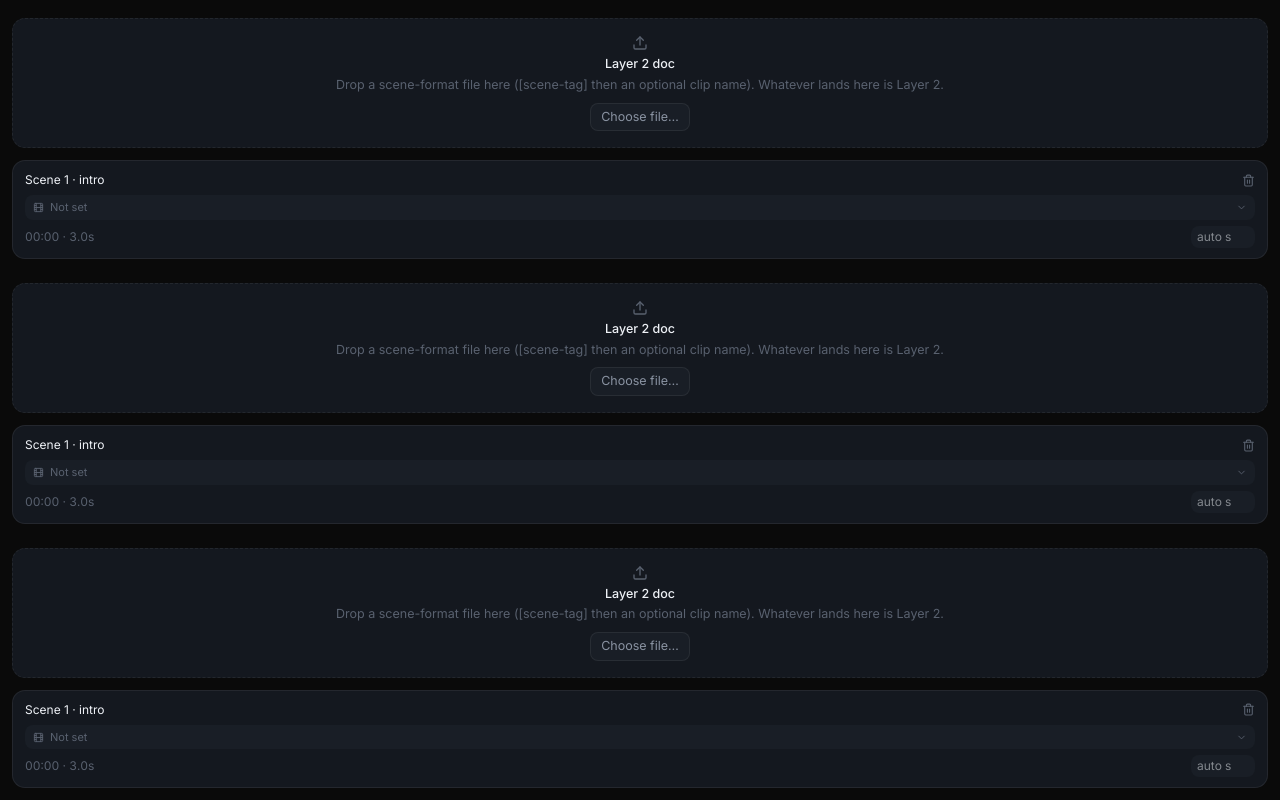
Test: delete confirmation + row select + geometry reset › bin -> confirmation dialog; confirm deletes, cancel does not
(page scrolled)
Click the 3rd button named "Delete spot" at (1248, 710), box top-left (1242, 703), bottom-right (1255, 716)
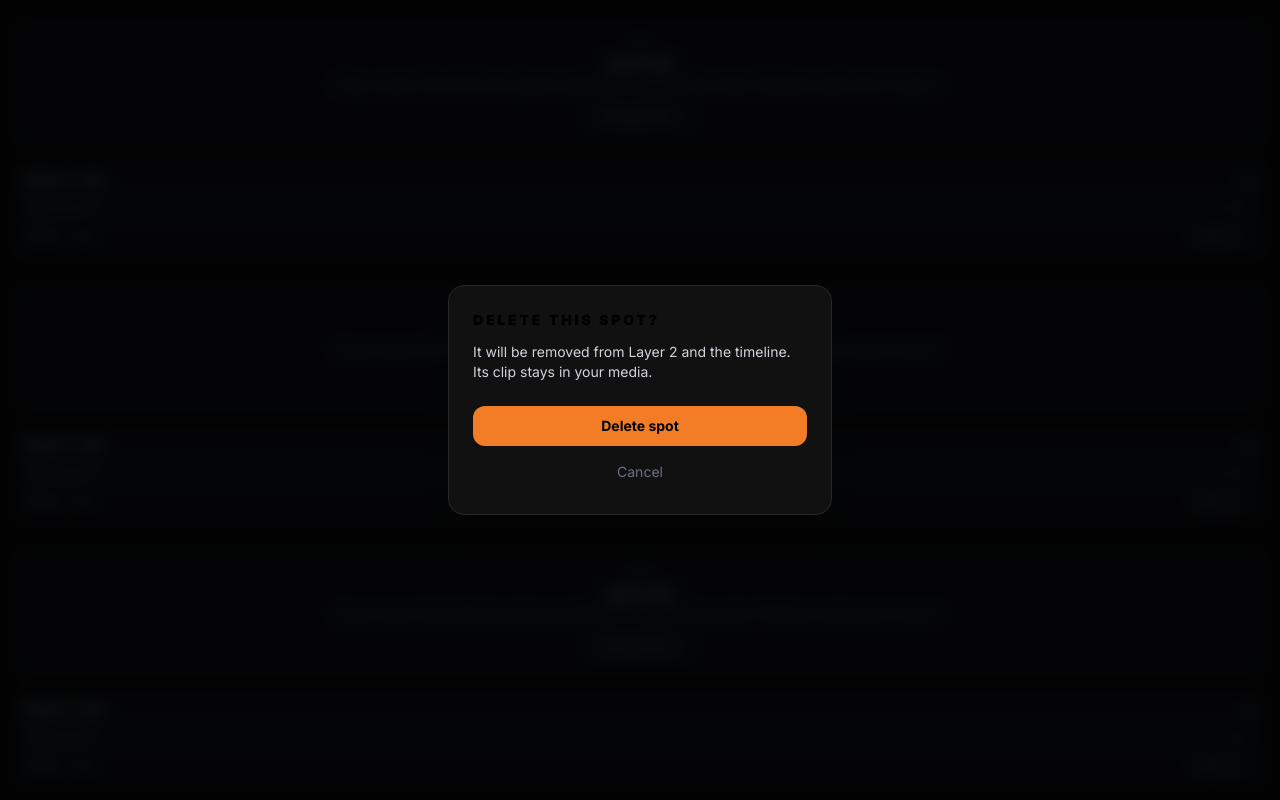
Click the button with test id "confirm-dialog-confirm" at (640, 426), box top-left (473, 406), bottom-right (807, 446)
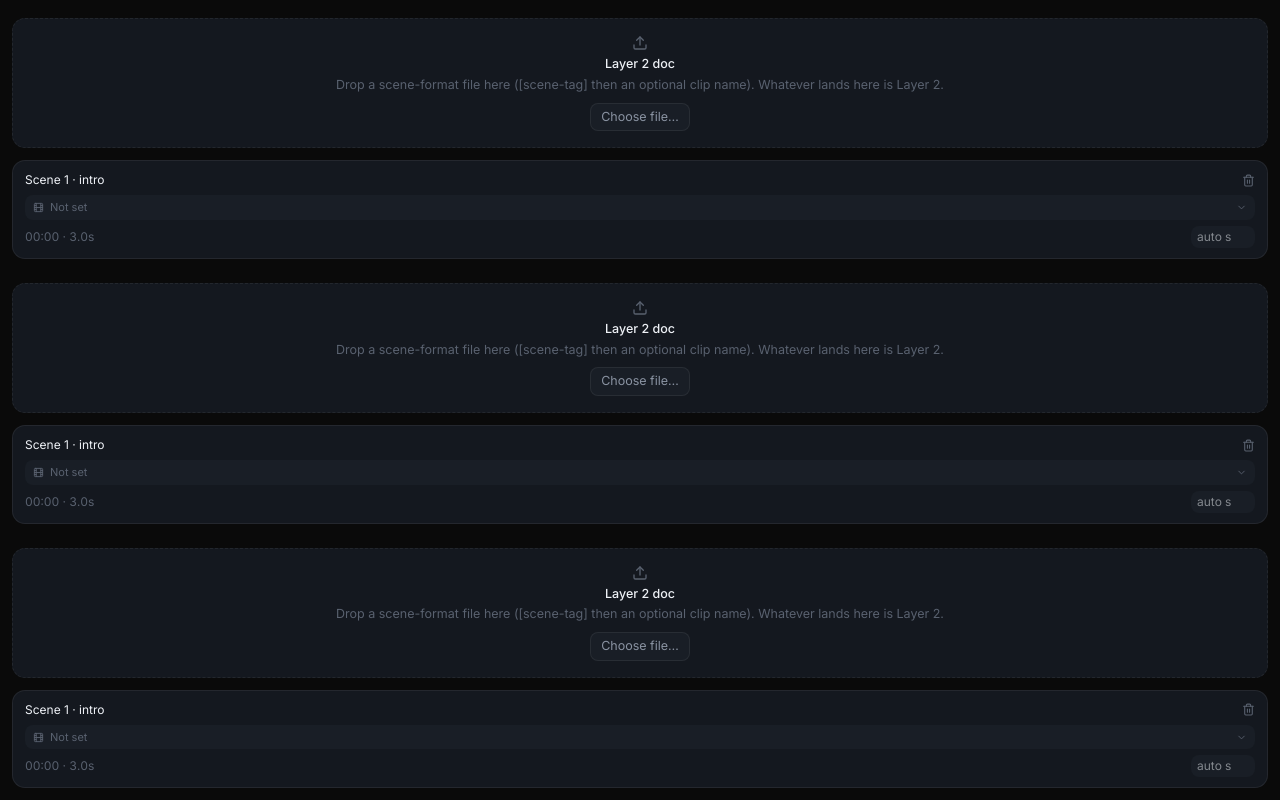
Now the dialog is gone
